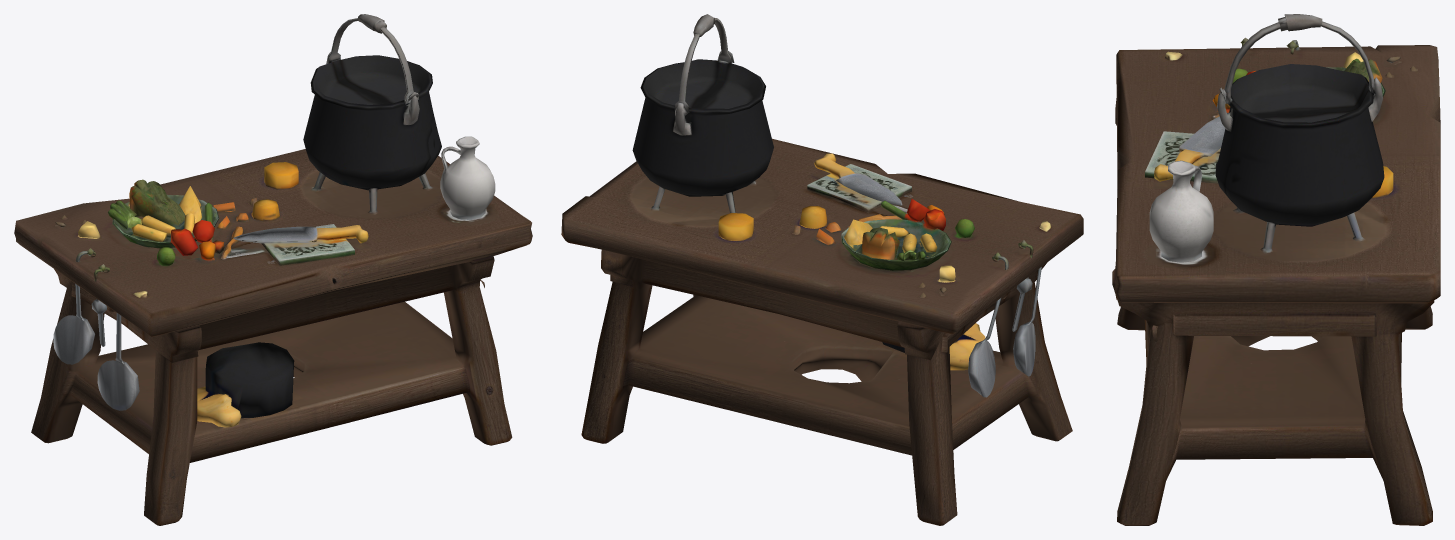
Rendered from tavolo_cucina.glb.
3 renders of one model, left to right at view 1: azimuth 30°, elevation 25°; view 2: azimuth 150°, elevation 25°; view 3: azimuth 270°, elevation 25°, orthographic. The views are drawn at different scales.
Visible parts, largest first — view 1: tavolo_cucina; view 2: tavolo_cucina; view 3: tavolo_cucina.
Part boxes in pixels (box(x1,y1,x2,y2)): tavolo_cucina: box(14, 14, 532, 525); tavolo_cucina: box(561, 14, 1083, 525); tavolo_cucina: box(1112, 14, 1440, 525).
Bounding box in the file's own units: 0.9995 × 0.9487 × 0.5962.
Materials: 1 (1 with a texture image).
